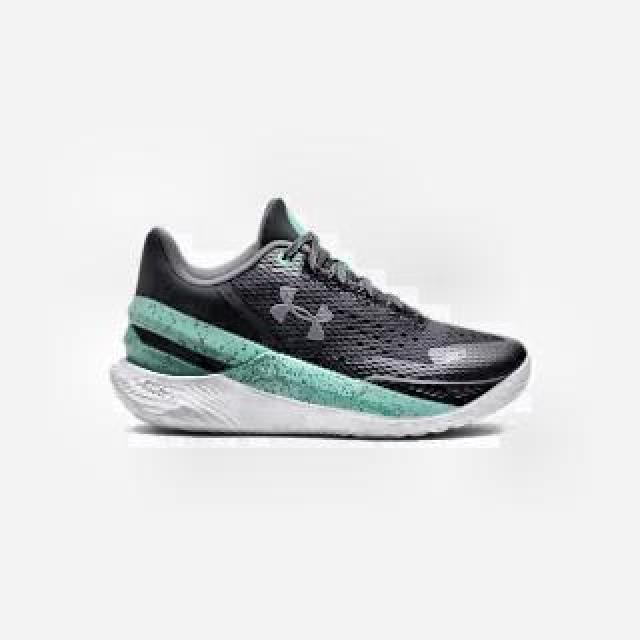shoes: (104, 198, 532, 438)
